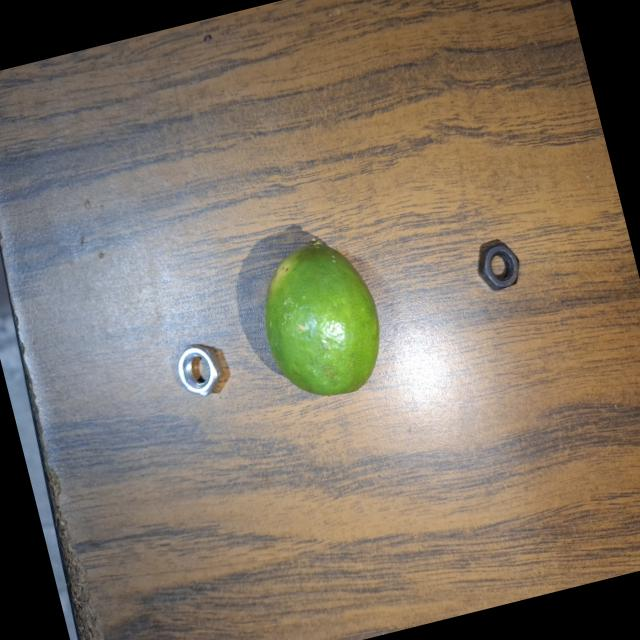limon: (239, 216, 407, 420)
milimetrico: (455, 218, 541, 308)
tuerca: (160, 324, 242, 424)
